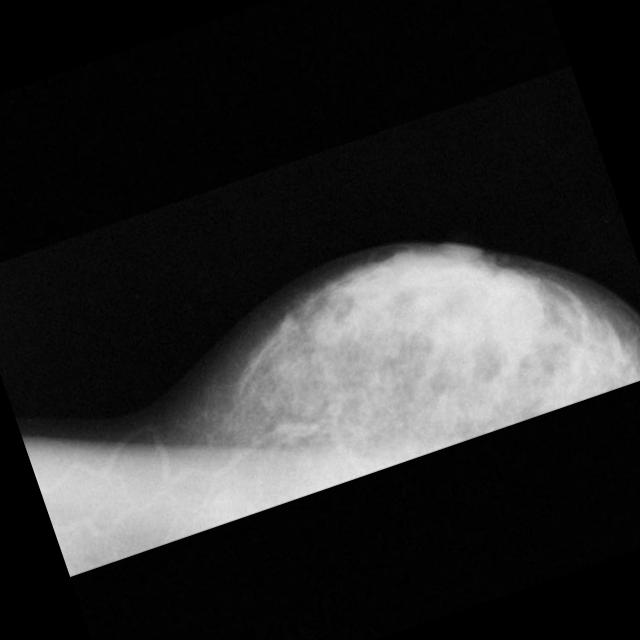ARCH: (260, 402, 312, 454)
